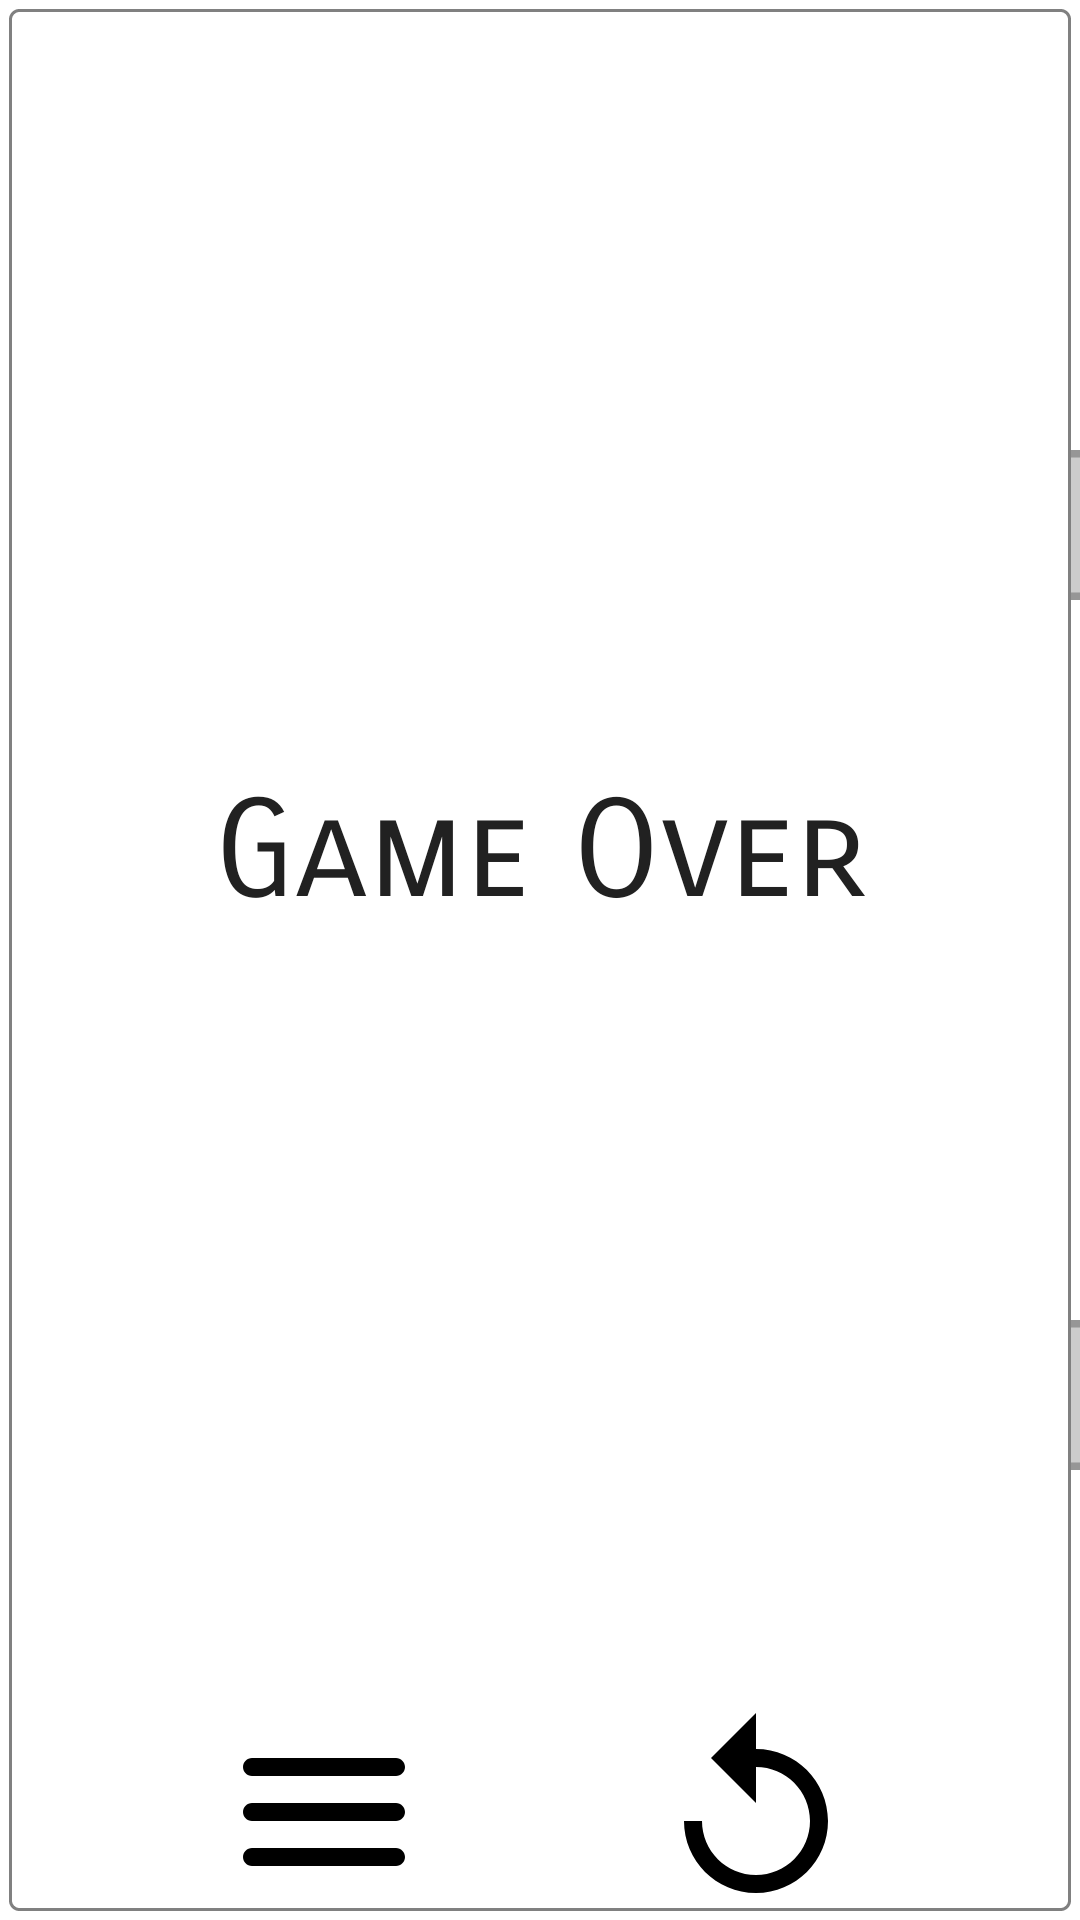

Locate icon controls on the screen. Image size 1080*1920, boxes as box(x1, y1, x2, y2).
menu: box(243, 1758, 405, 1866)
replay: box(684, 1713, 828, 1893)
